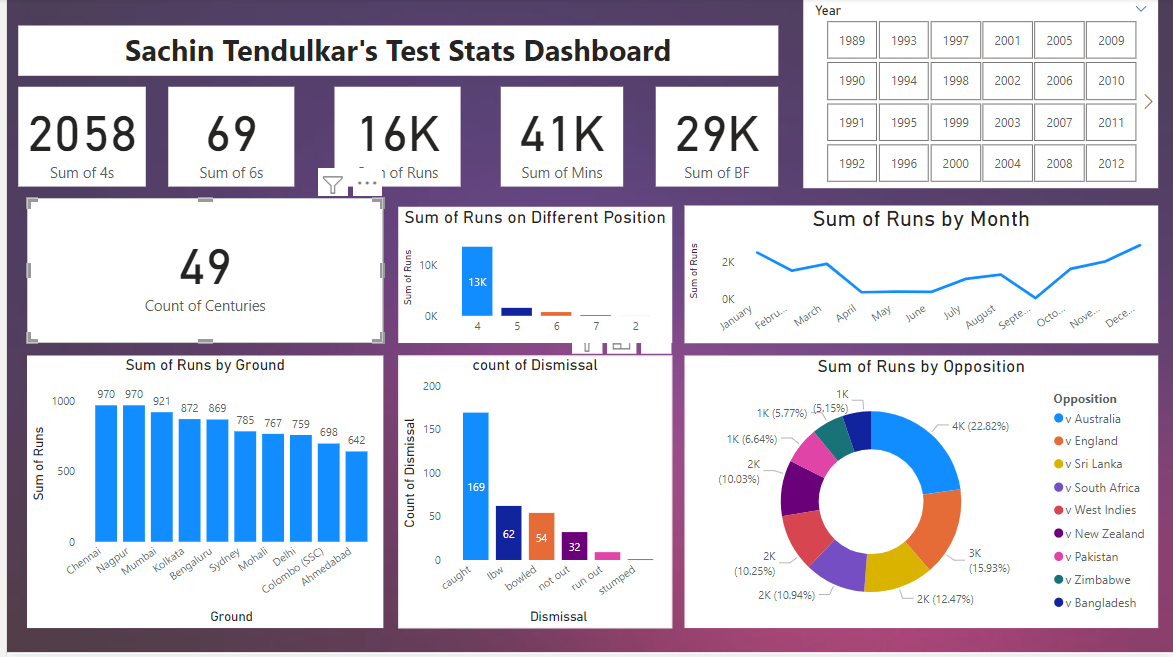

The page's visual inventory and layout, read from the dashboard file:
{"tool":"powerbi","page":{"name":"Page 1","canvas":[1280,720],"ordinal":0},"visuals":[{"type":"card","fields":{"Values":["sachin_Test_batting.4s"]},"box":[12.3,97.4,140,109.8],"z":0},{"type":"card","fields":{"Values":["sachin_Test_batting.6s"]},"box":[177,97.4,138.6,109.8],"z":1000},{"type":"card","fields":{"Values":["sachin_Test_batting.Runs"]},"box":[359.5,97.4,138.6,109.8],"z":2000},{"type":"clusteredColumnChart","fields":{"Y":["sachin_Test_batting.Runs"],"Category":["sachin_Test_batting.Ground"]},"box":[22,392.5,391.1,299.1],"z":3000},{"type":"columnChart","title":"count of Dismissal","fields":{"Category":["sachin_Test_batting.Dismissal"],"Y":["sachin_Test_batting.Dismissal"],"Series":["sachin_Test_batting.Dismissal"]},"box":[429.5,392.5,300.5,299.1],"z":4000},{"type":"card","fields":{"Values":["sachin_Test_batting.Mins"]},"box":[542,97.4,134.5,109.8],"z":5000},{"type":"donutChart","fields":{"Category":["sachin_Test_batting.Opposition"],"Y":["sachin_Test_batting.Runs"]},"box":[743.7,392.5,520.1,299.1],"z":6000},{"type":"slicer","fields":{"Values":["sachin_Test_batting.Start DateAscending.Variation.Date Hierarchy.Year"]},"box":[874.1,0,389.7,208.6],"z":6001},{"type":"textbox","box":[12.3,30.2,834.3,54.9],"z":6002},{"type":"columnChart","title":"Sum of Runs on Different Position","fields":{"Category":["sachin_Test_batting.Pos"],"Y":["sachin_Test_batting.Runs"],"Series":["sachin_Test_batting.Pos"]},"box":[429.5,229.2,300.5,149.6],"z":6003},{"type":"card","fields":{"Values":["sachin_Test_batting.BF"]},"box":[712.2,97.4,134.5,109.8],"z":6004},{"type":"lineChart","fields":{"Y":["sachin_Test_batting.Runs"],"Category":["sachin_Test_batting.Start DateAscending.Variation.Date Hierarchy.Month"]},"box":[743.7,227.8,520.1,150.9],"z":6005},{"type":"card","fields":{"Values":["sachin_Test_batting.Centuries"]},"box":[22,219.6,391.1,159.2],"z":6006}]}

Visuals, with their boxes in screenshot pixels (x1, y1, x2, y2), scaled from the page's 1280x720 canvas onto the 1173x657 screenshot:
card - sachin_Test_batting.4s: crop(11, 89, 140, 189)
card - sachin_Test_batting.6s: crop(162, 89, 289, 189)
card - sachin_Test_batting.Runs: crop(329, 89, 456, 189)
clusteredColumnChart - sachin_Test_batting.Runs x sachin_Test_batting.Ground: crop(20, 358, 379, 631)
"count of Dismissal" columnChart: crop(394, 358, 669, 631)
card - sachin_Test_batting.Mins: crop(497, 89, 620, 189)
donutChart - sachin_Test_batting.Opposition x sachin_Test_batting.Runs: crop(682, 358, 1158, 631)
slicer - sachin_Test_batting.Start DateAscending.Variation.Date Hierarchy.Year: crop(801, 0, 1158, 190)
textbox: crop(11, 28, 776, 78)
"Sum of Runs on Different Position" columnChart: crop(394, 209, 669, 346)
card - sachin_Test_batting.BF: crop(653, 89, 776, 189)
lineChart - sachin_Test_batting.Runs x sachin_Test_batting.Start DateAscending.Variation.Date Hierarchy.Month: crop(682, 208, 1158, 346)
card - sachin_Test_batting.Centuries: crop(20, 200, 379, 346)
